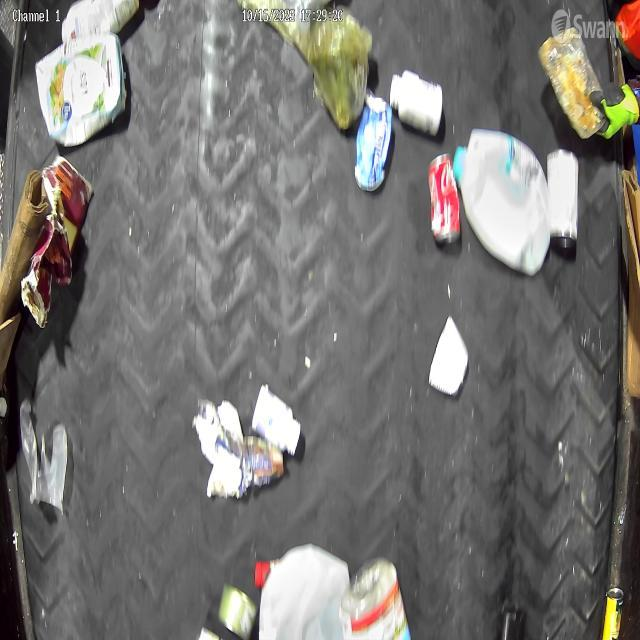can: (422, 150, 463, 262), (349, 94, 391, 194), (545, 136, 577, 257)
milk_jug: (452, 128, 552, 284), (252, 544, 355, 640)
